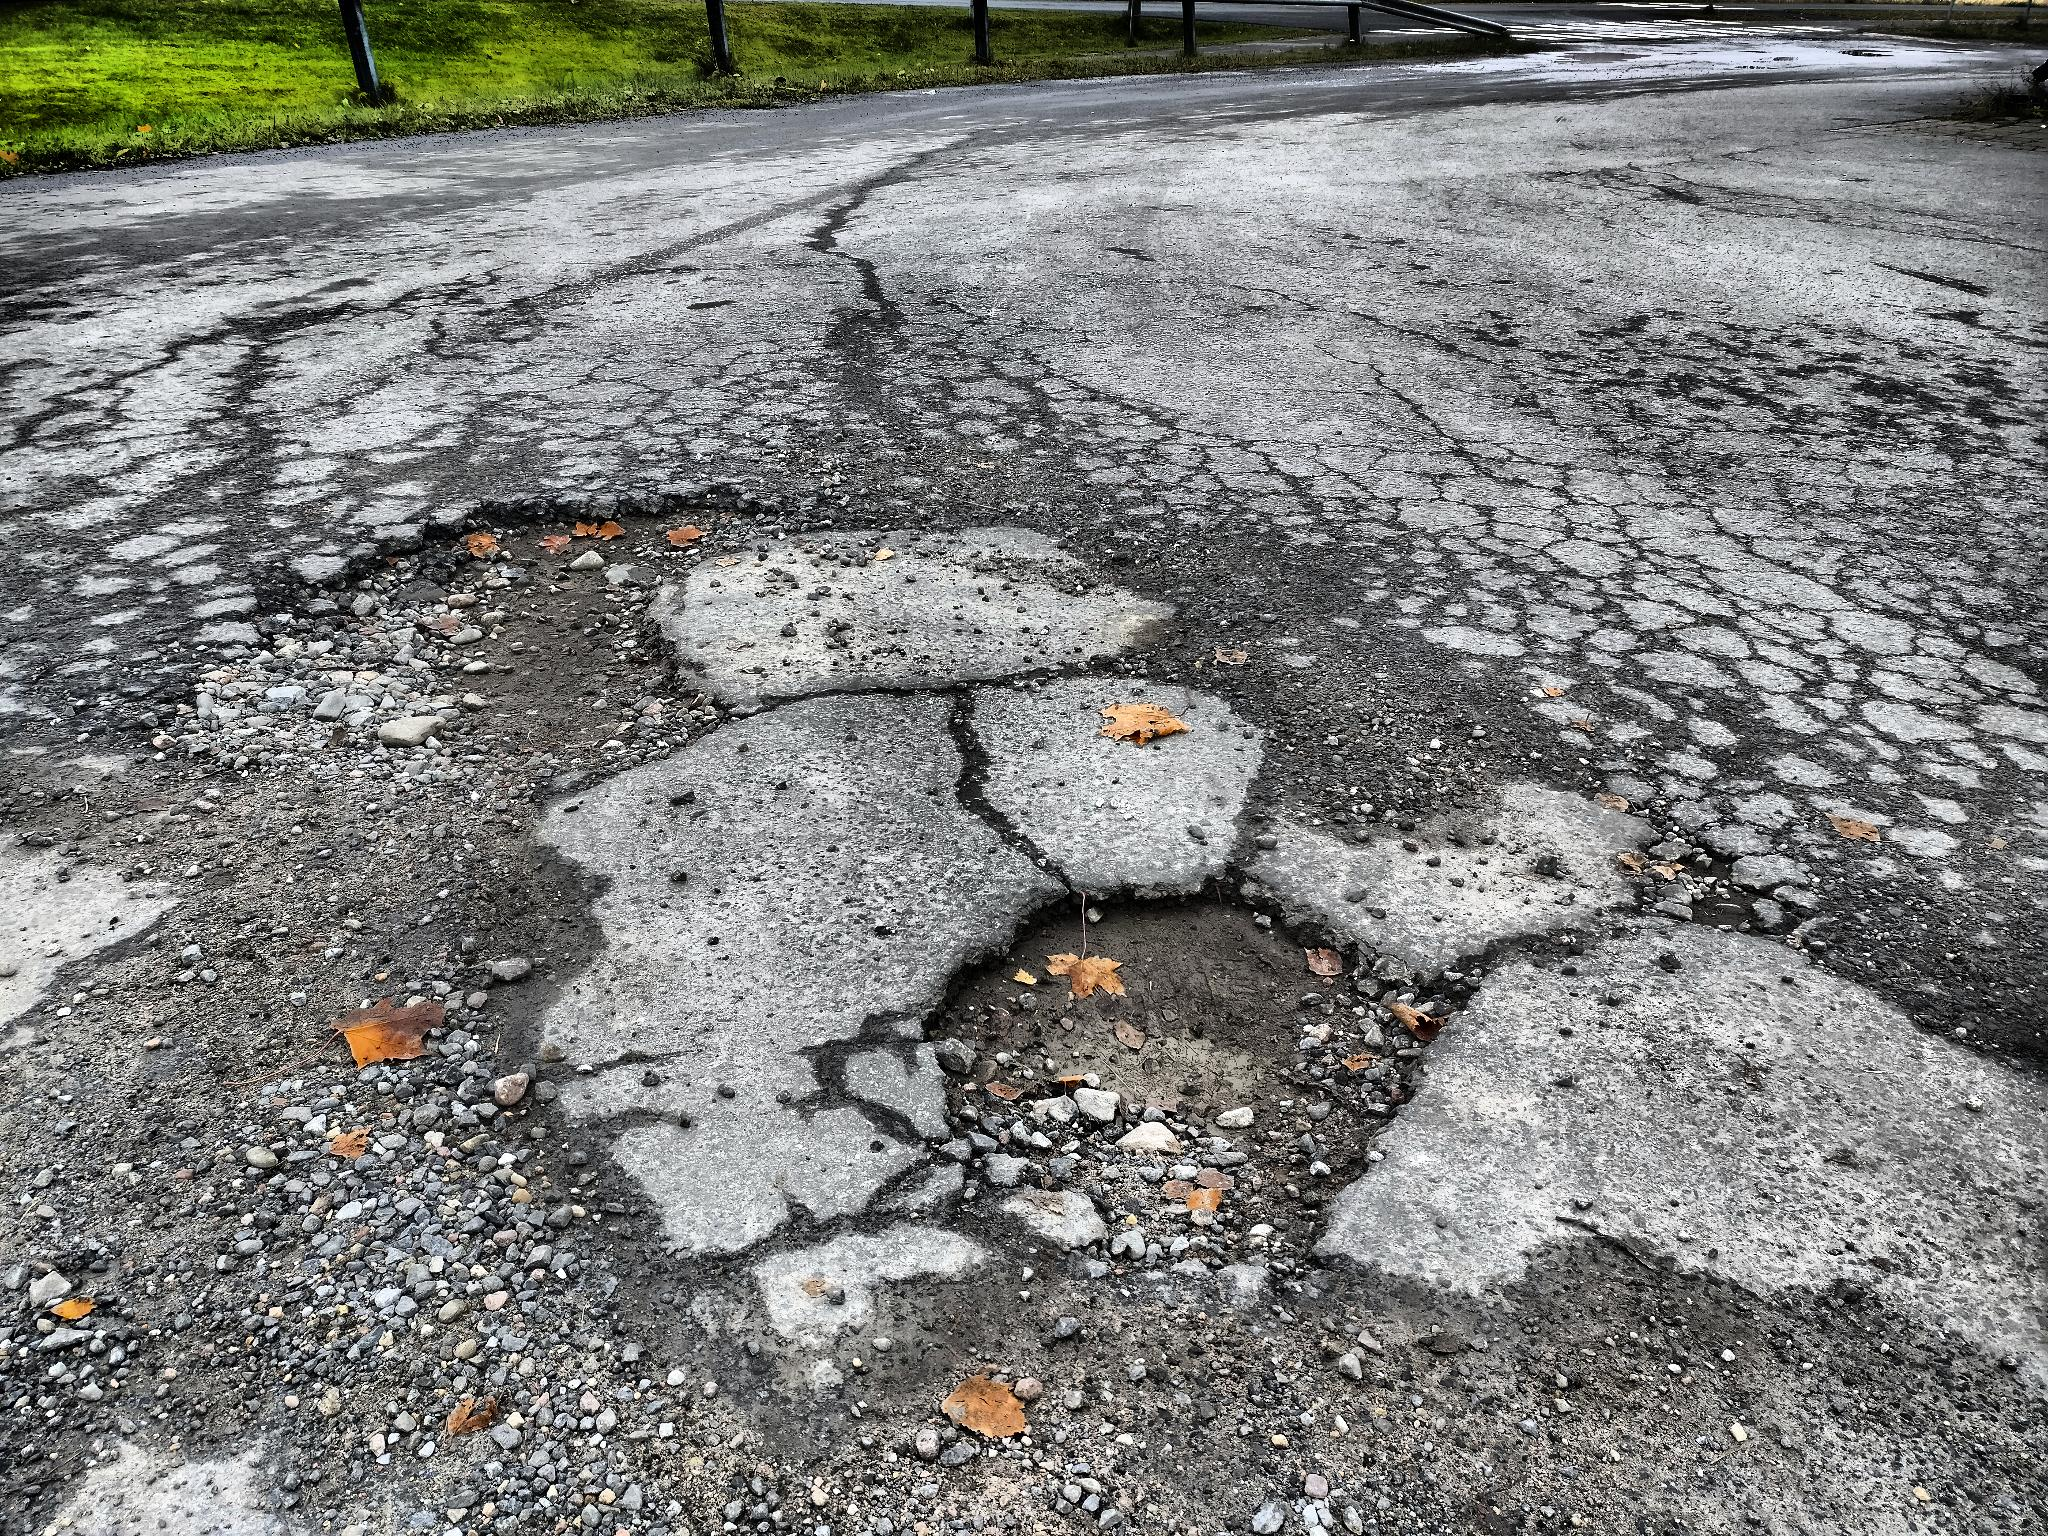pothole: (937, 876, 1419, 1242), (306, 508, 801, 757)
